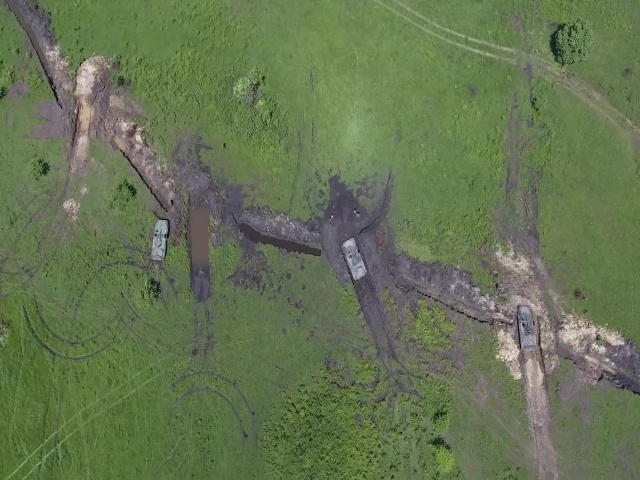vehicle: (341, 237, 368, 281), (517, 302, 535, 351), (149, 220, 170, 261)
